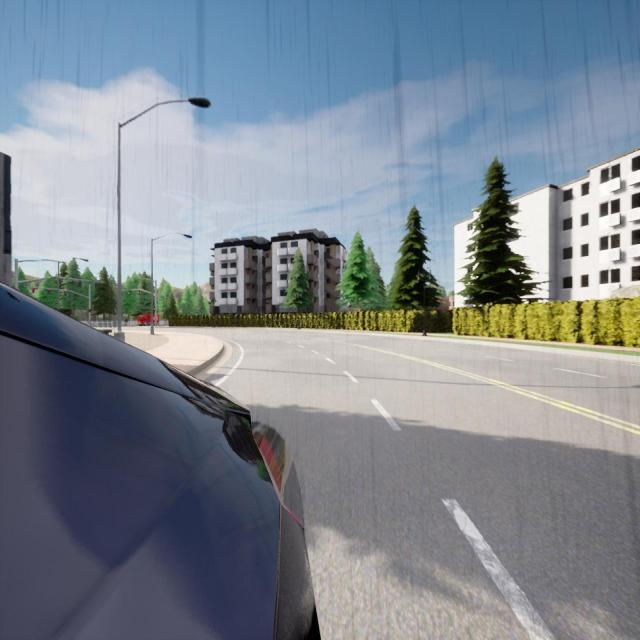Pedestrian: (124, 316, 128, 326)
Vehicle: (0, 297, 318, 638), (136, 313, 160, 326)
traffic_light: (32, 287, 35, 293), (88, 308, 91, 313), (128, 290, 130, 296), (79, 281, 81, 287), (96, 282, 98, 288), (48, 288, 50, 294), (64, 290, 66, 296), (154, 306, 156, 312), (138, 290, 140, 295)
